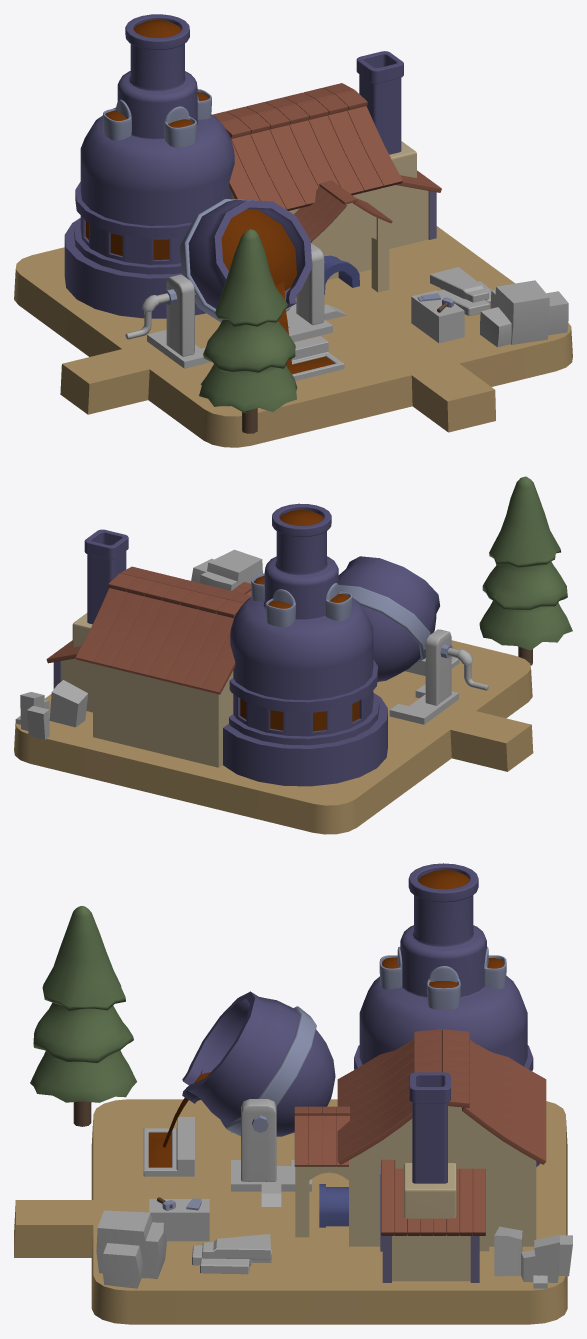
The model's file is iron_resources.fbx.
3 views of the same model, one above another, from view 1: azimuth 30°, elevation 25°; view 2: azimuth 150°, elevation 25°; view 3: azimuth 270°, elevation 25° (orthographic). The views are drawn at different scales.
Visible parts, largest first — view 1: iron_resources; view 2: iron_resources; view 3: iron_resources.
Boxes of the visible parts, x1,y1,x2,y2 form: iron_resources: (14,14,572,447); iron_resources: (14,476,572,834); iron_resources: (14,863,572,1324).
Size of the model in its own units: 122 by 77.97 by 128.
